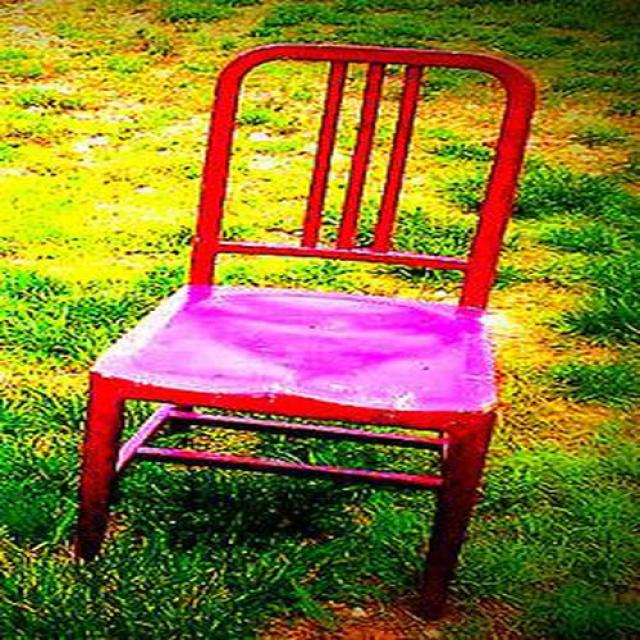chair: (68, 44, 540, 627)
